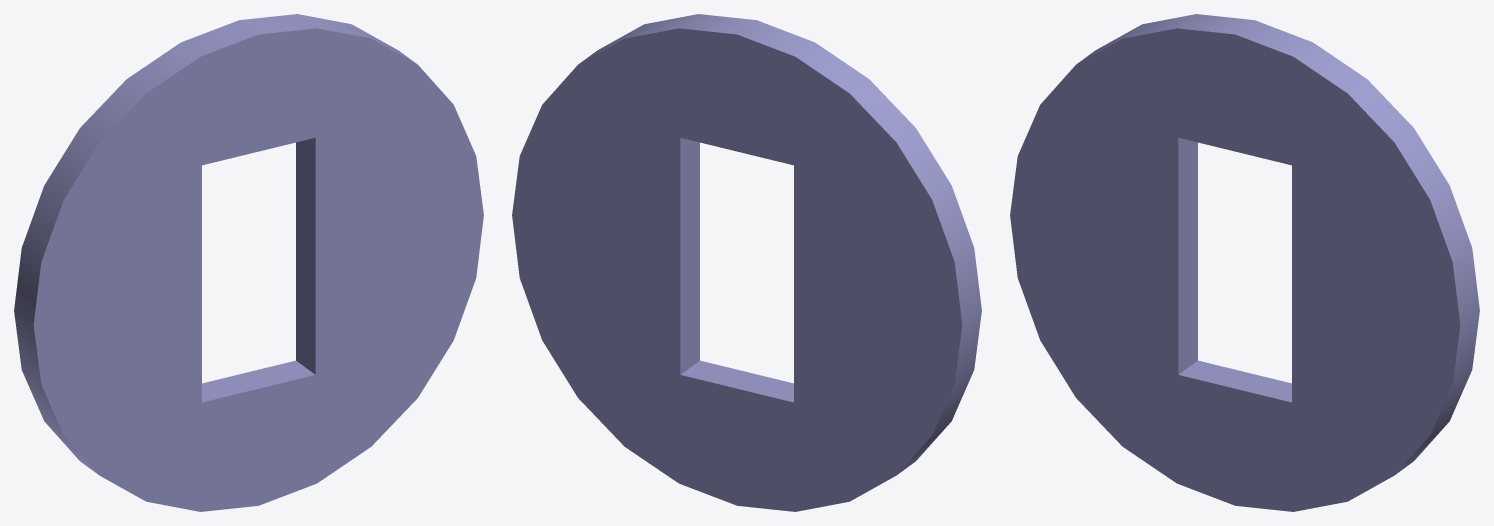
File: DplCDwnstrMagFlange.gltf
The picture shows the model from 3 angles, left to right: view 1: azimuth 30°, elevation 25°; view 2: azimuth 150°, elevation 25°; view 3: azimuth 330°, elevation 25°; orthographic projection.
Parts seen in each view (by area): view 1: DplCDwnstrMagFlangeD0x224b7f0; view 2: DplCDwnstrMagFlangeD0x224b7f0; view 3: DplCDwnstrMagFlangeD0x224b7f0.
Boxes of the visible parts, bbox=[...] form: DplCDwnstrMagFlangeD0x224b7f0: bbox=[14, 14, 483, 511]; DplCDwnstrMagFlangeD0x224b7f0: bbox=[512, 14, 981, 511]; DplCDwnstrMagFlangeD0x224b7f0: bbox=[1010, 14, 1479, 511].
Size of the model in its own units: 20.24 by 20.24 by 1.52.
